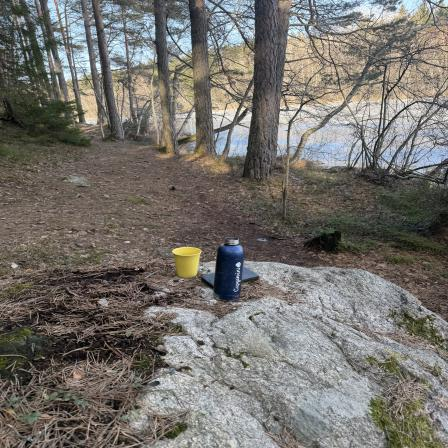blue_bottle: (216, 235, 246, 301)
phone: (195, 268, 266, 288)
yellow_cup: (170, 245, 204, 280)
